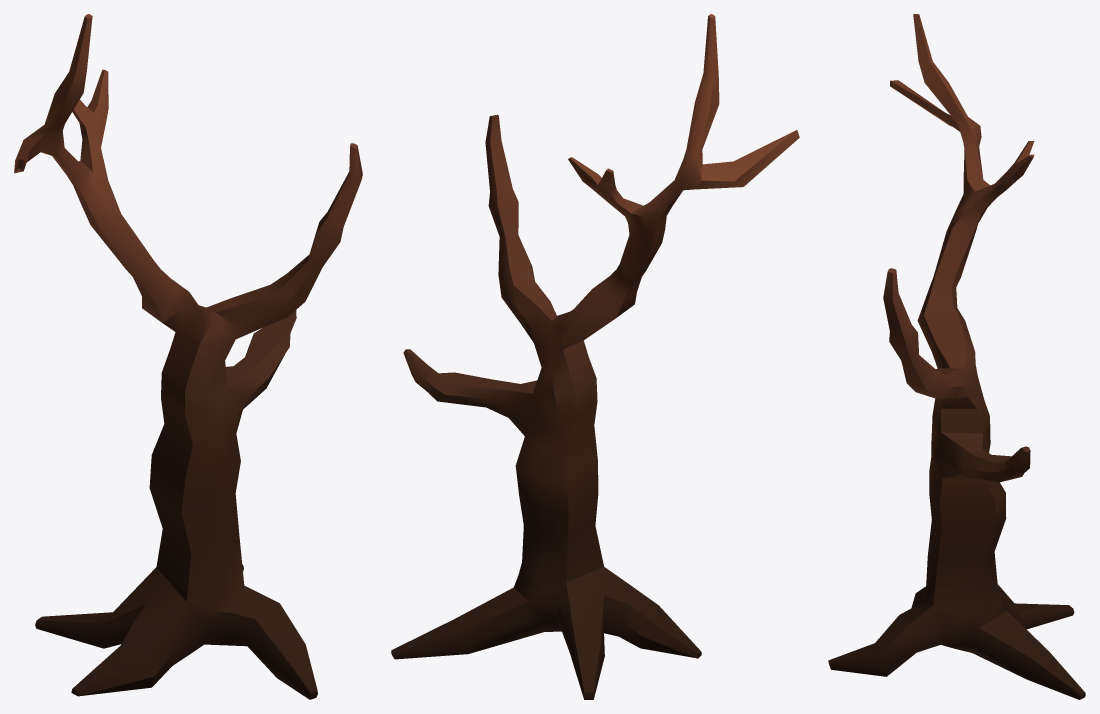
File: Tree_F_2.fbx
The picture shows the model from 3 angles, left to right: view 1: azimuth 30°, elevation 25°; view 2: azimuth 150°, elevation 25°; view 3: azimuth 270°, elevation 25°; orthographic projection. The views are drawn at different scales.
Parts seen in each view (by area): view 1: Tree_F_2; view 2: Tree_F_2; view 3: Tree_F_2.
Boxes of the visible parts, x1,y1,x2,y2 form: Tree_F_2: [14, 14, 362, 699]; Tree_F_2: [391, 14, 799, 699]; Tree_F_2: [828, 14, 1085, 699].
Bounding box in the file's own units: 114 × 213 × 85.27.
